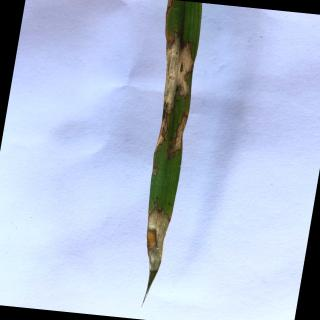Hawar-Daun: (164, 27, 193, 111), (146, 208, 172, 271), (169, 112, 189, 156), (151, 112, 170, 158)
